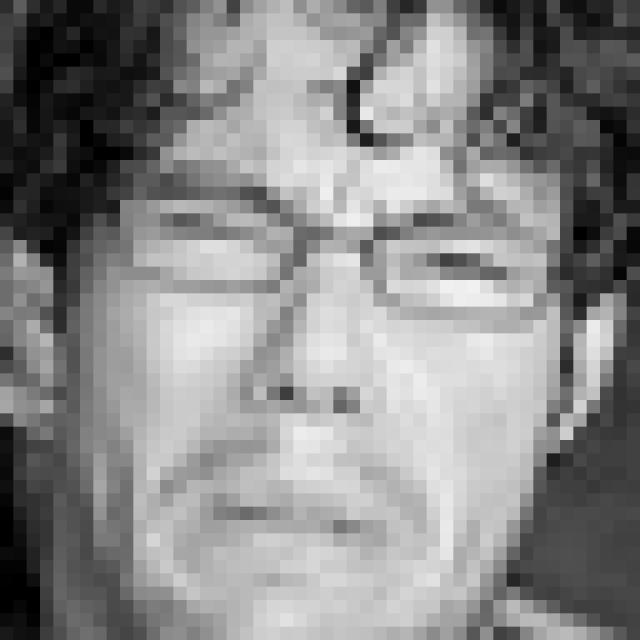disgust: (101, 133, 553, 614)
